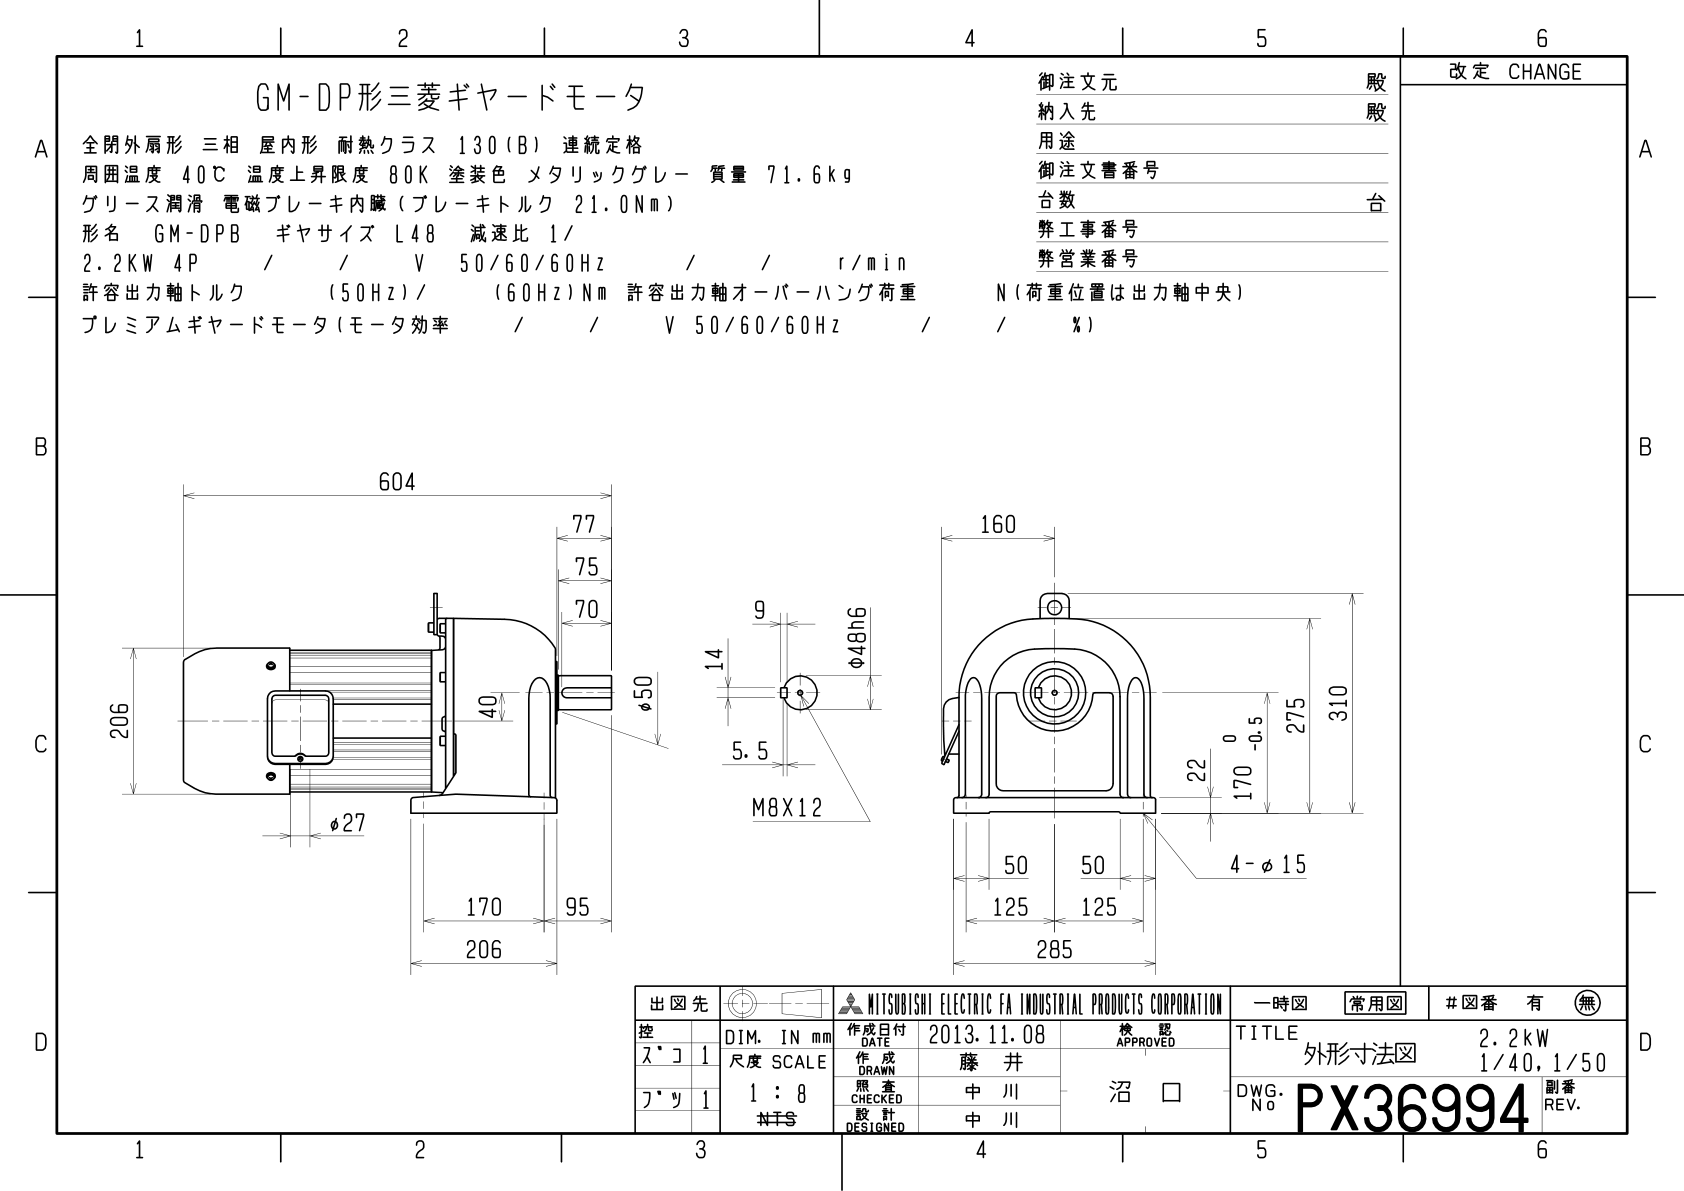GM_D_屋内＿三相_脚: (4, 8, 1670, 1173)
